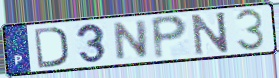3: (233, 7, 267, 53), (73, 22, 109, 64)
D: (32, 25, 70, 70)
N: (189, 10, 231, 57), (113, 18, 150, 62)
P: (150, 14, 190, 61)
